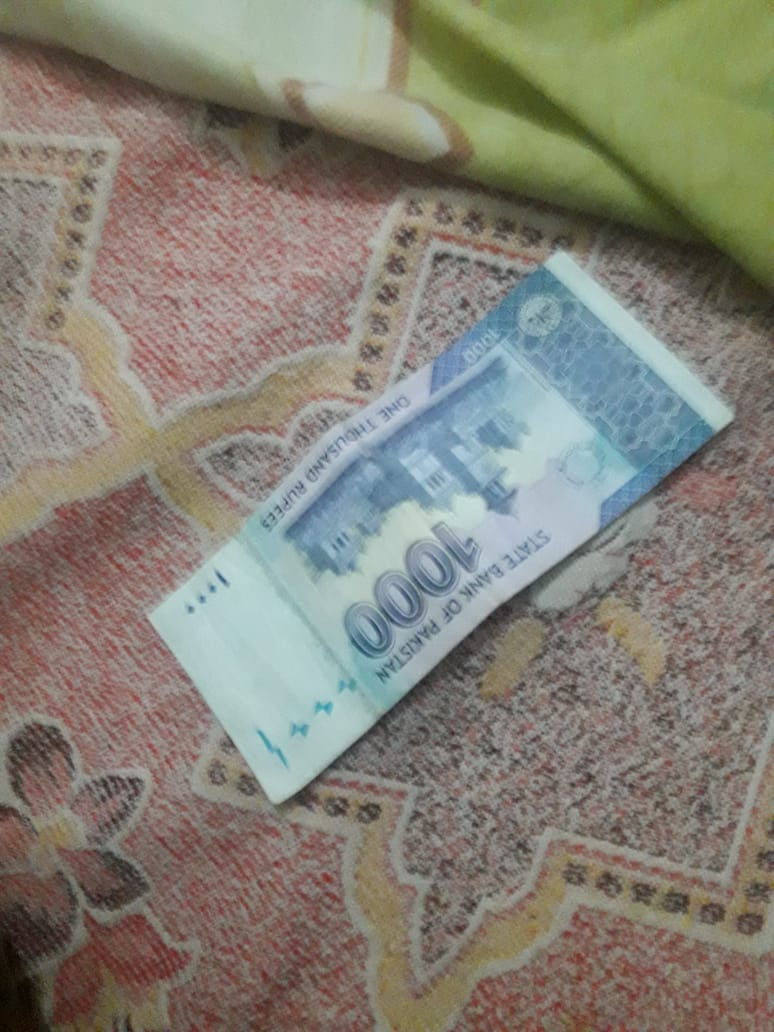1000 rupee: (130, 244, 730, 859)
